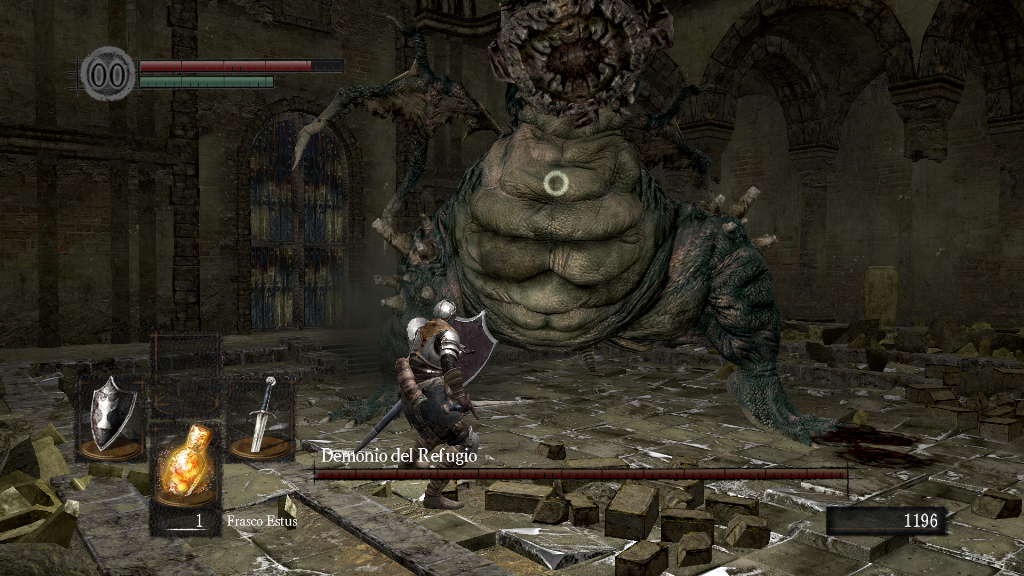asylumDemon: (374, 2, 852, 453)
bossHP: (314, 469, 847, 479)
health: (138, 58, 343, 71)
humanity: (80, 45, 136, 102)
player: (390, 298, 499, 512)
souls: (825, 506, 945, 536)
stamina: (138, 74, 274, 88)
